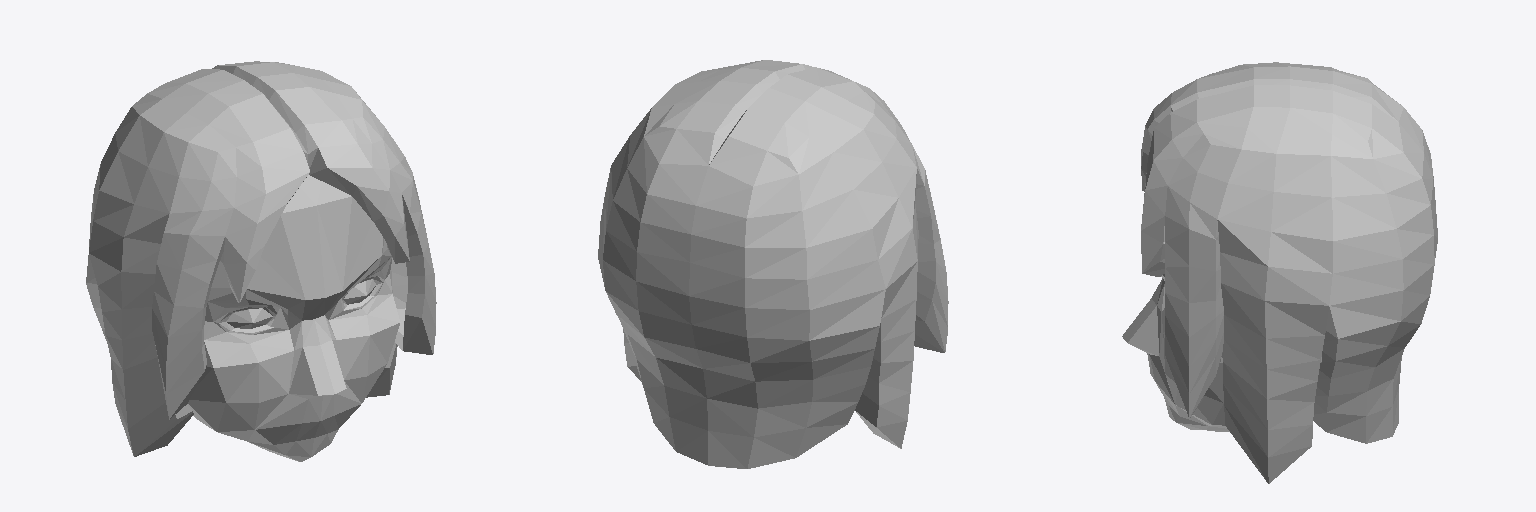
Rendered from Sonja_closed.obj.
3 views of the same model, side by side, from view 1: azimuth 30°, elevation 25°; view 2: azimuth 150°, elevation 25°; view 3: azimuth 270°, elevation 25° (orthographic).
Visible parts, largest first — view 1: Hair.001_Cube.004, Face_Cube; view 2: Hair.001_Cube.004; view 3: Hair.001_Cube.004, Face_Cube.
Part boxes in pixels (bbox=[...]): Hair.001_Cube.004: bbox=[86, 61, 436, 456]; Face_Cube: bbox=[187, 175, 400, 461]; Hair.001_Cube.004: bbox=[598, 60, 948, 468]; Hair.001_Cube.004: bbox=[1141, 62, 1437, 483]; Face_Cube: bbox=[1122, 274, 1321, 431].
Size of the model in its own units: 5.81 by 6.76 by 5.58.